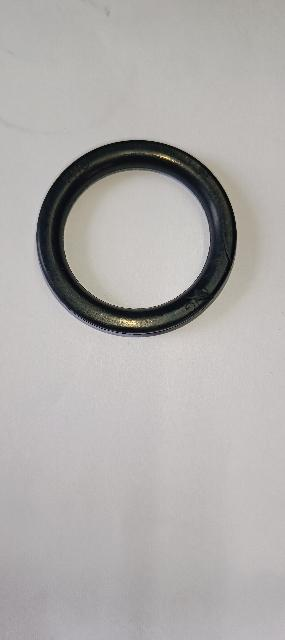4: (184, 284, 216, 300)
scratch: (217, 224, 235, 271)
